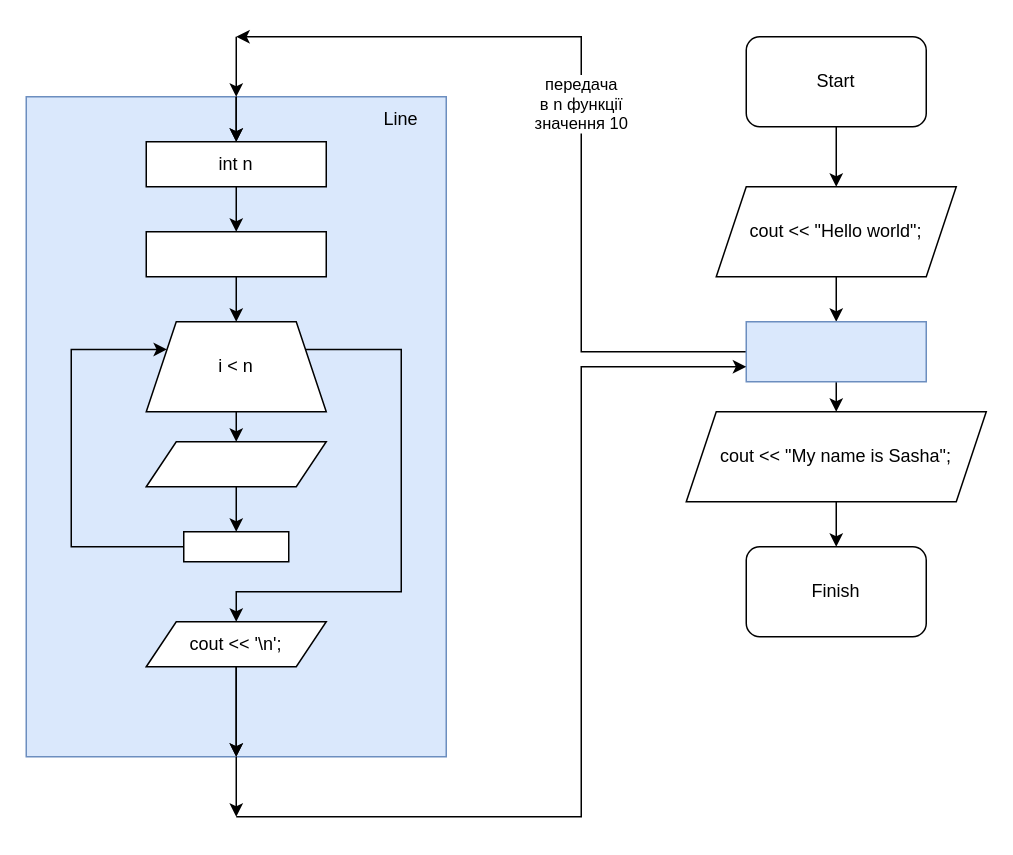
Image size: 1013x855. Some labels were removed from this diagram. Here are the shapes that lost their labels. From the top down, the centre of each, then its label:
At pixel 235 253: "int i = 0".
At pixel 835 351: "Line(10);".
At pixel 235 463: "cout << '-';".
At pixel 235 546: "i++".
